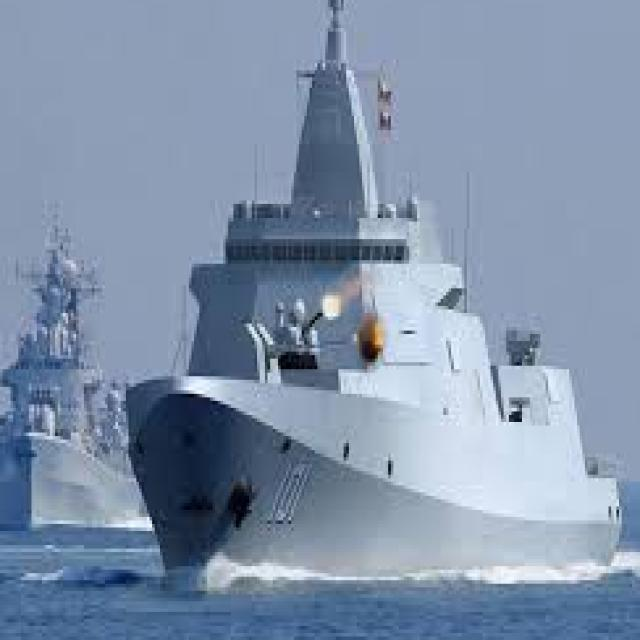navalvessels: (128, 0, 632, 608), (0, 207, 144, 537)
